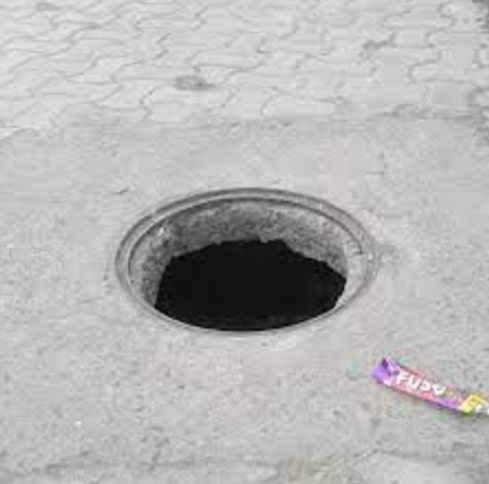open_manhole: (127, 184, 376, 321)
